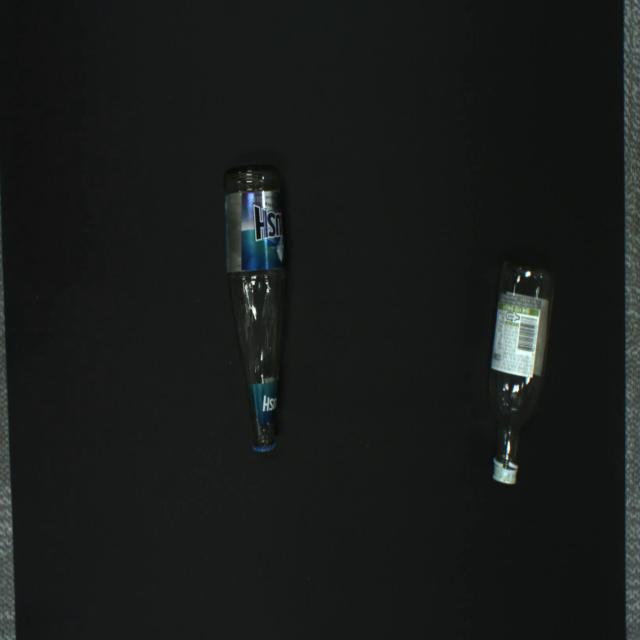beer-bottle: (223, 165, 287, 453)
soju-bottle: (487, 261, 554, 484)
